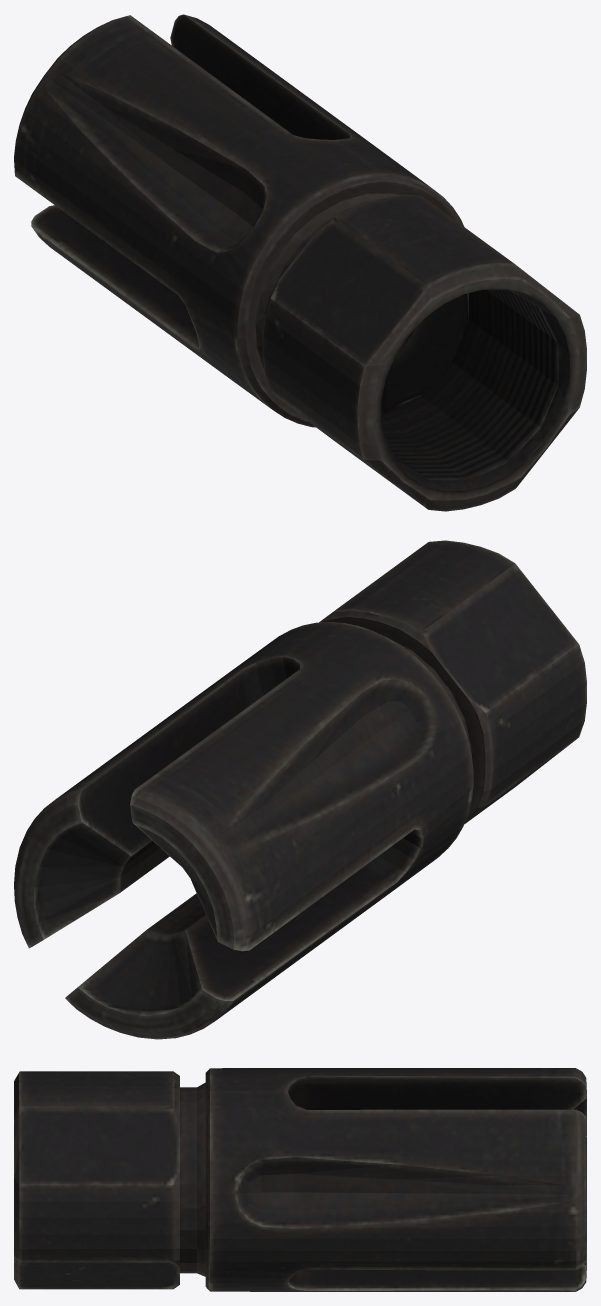
3 renders of one model, top to bottom at view 1: azimuth 30°, elevation 25°; view 2: azimuth 150°, elevation 25°; view 3: azimuth 270°, elevation 25°, orthographic. The views are drawn at different scales.
Visible parts, largest first — view 1: TW_5b099b7d5acfc400186331e4_PZ_Import; view 2: TW_5b099b7d5acfc400186331e4_PZ_Import; view 3: TW_5b099b7d5acfc400186331e4_PZ_Import.
Boxes of the visible parts, bbox=[...] form: TW_5b099b7d5acfc400186331e4_PZ_Import: bbox=[14, 14, 586, 511]; TW_5b099b7d5acfc400186331e4_PZ_Import: bbox=[14, 540, 586, 1039]; TW_5b099b7d5acfc400186331e4_PZ_Import: bbox=[14, 1068, 586, 1291].
Size of the model in its own units: 0.0121 by 0.031 by 0.0121.
Materials: 1 (1 with a texture image).
